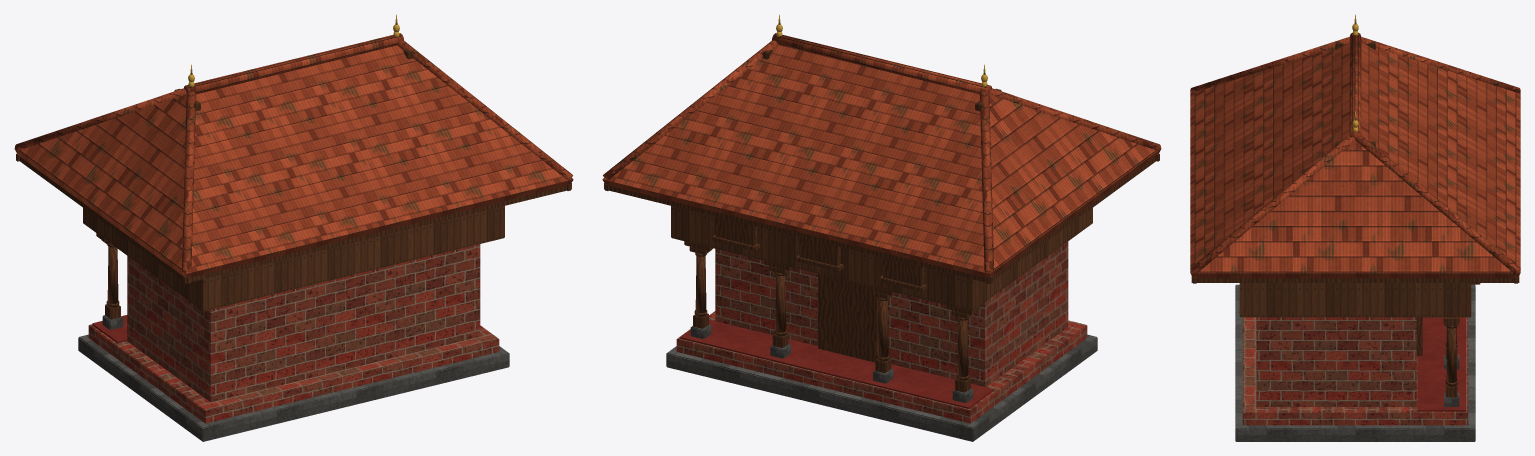
Rendered from mana_pathayapura.glb.
3 renders of one model, left to right at view 1: azimuth 30°, elevation 25°; view 2: azimuth 150°, elevation 25°; view 3: azimuth 270°, elevation 25°, orthographic. The views are drawn at different scales.
Parts seen in each view (by area): view 1: mana_pathayapura; view 2: mana_pathayapura; view 3: mana_pathayapura.
Part boxes in pixels (bbox=[...]): mana_pathayapura: bbox=[14, 14, 573, 441]; mana_pathayapura: bbox=[602, 14, 1161, 441]; mana_pathayapura: bbox=[1190, 14, 1520, 441].
Size of the model in its own units: 10.29 by 8.06 by 7.84.
Materials: 7 (7 with a texture image).
